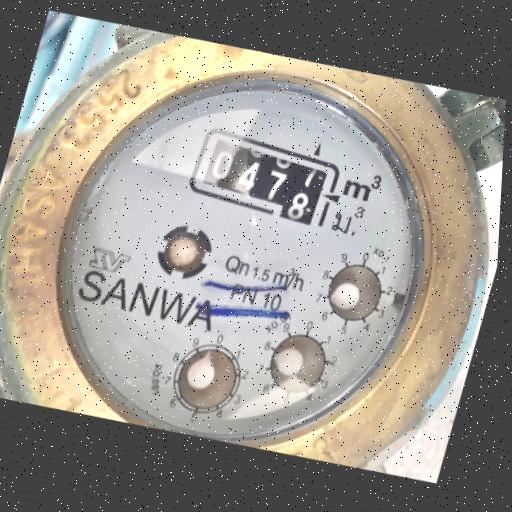0: (201, 137, 241, 190)
4: (225, 144, 270, 198)
7: (279, 161, 330, 226), (253, 153, 298, 206)
border_water_meter_number: (181, 118, 351, 234)
